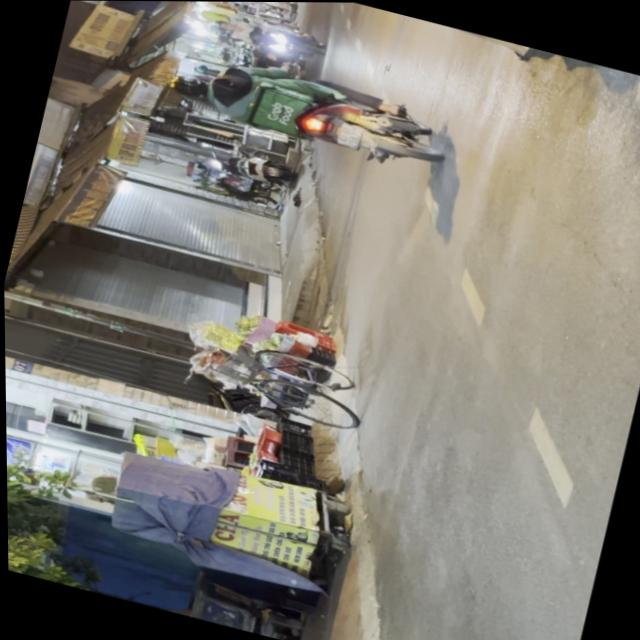helmet: (167, 73, 211, 104)
licenseplate: (161, 39, 452, 180), (168, 1, 590, 75)
nohelmet: (333, 121, 362, 148)
